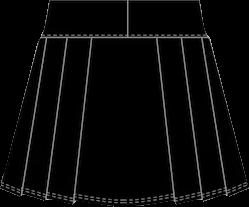Hemline: (0, 186, 248, 206)
Waistline: (39, 35, 208, 39), (49, 0, 199, 3)
